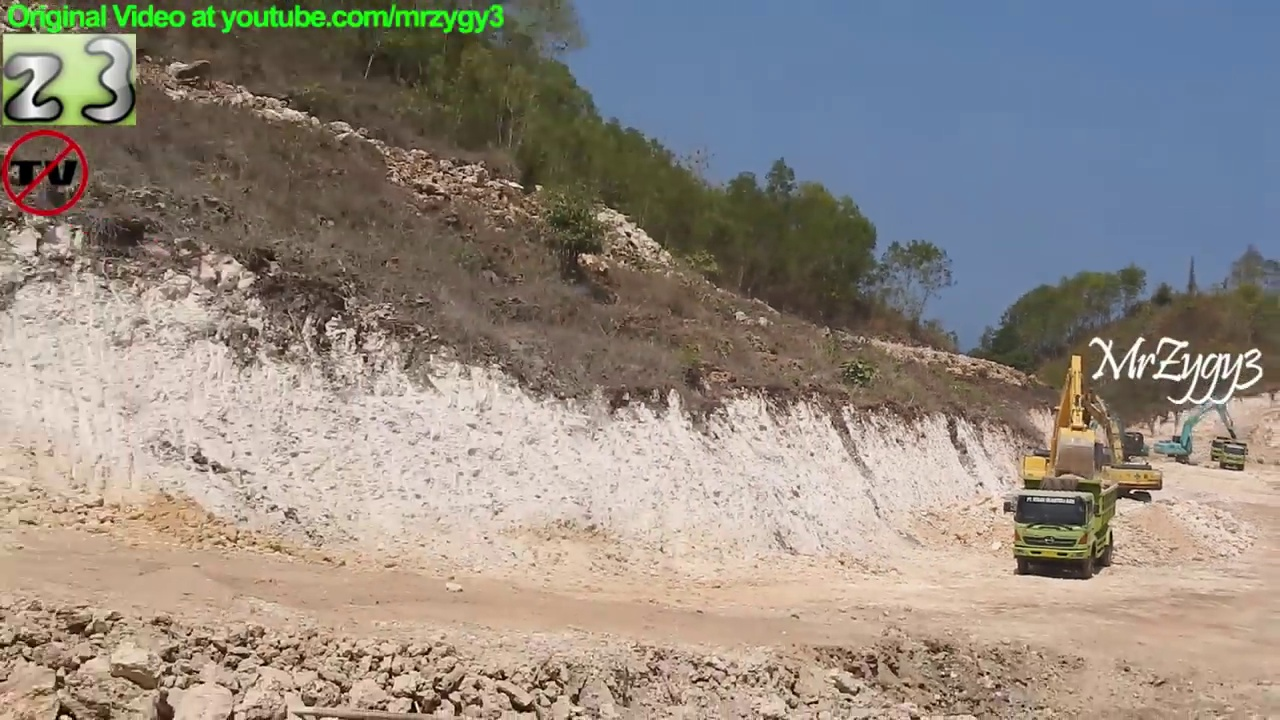excavator: (998, 351, 1127, 520), (1054, 389, 1165, 509), (1151, 395, 1240, 469), (1074, 396, 1150, 478)
truck: (1003, 474, 1123, 582), (1219, 440, 1250, 474), (1207, 434, 1238, 467)
